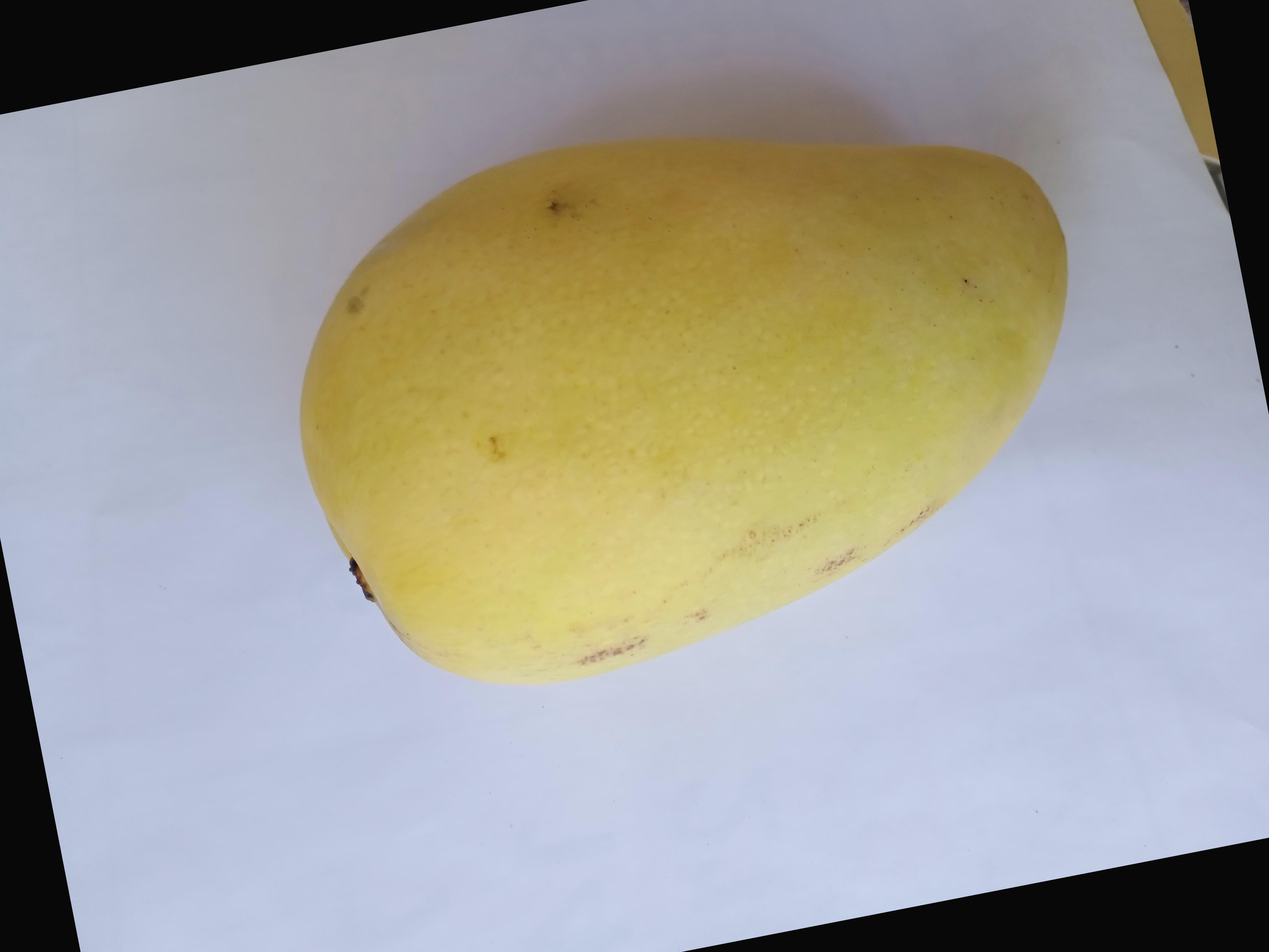Mango Ripe: (90, 174, 1060, 928)
